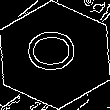O_E: (25, 32, 85, 78)
